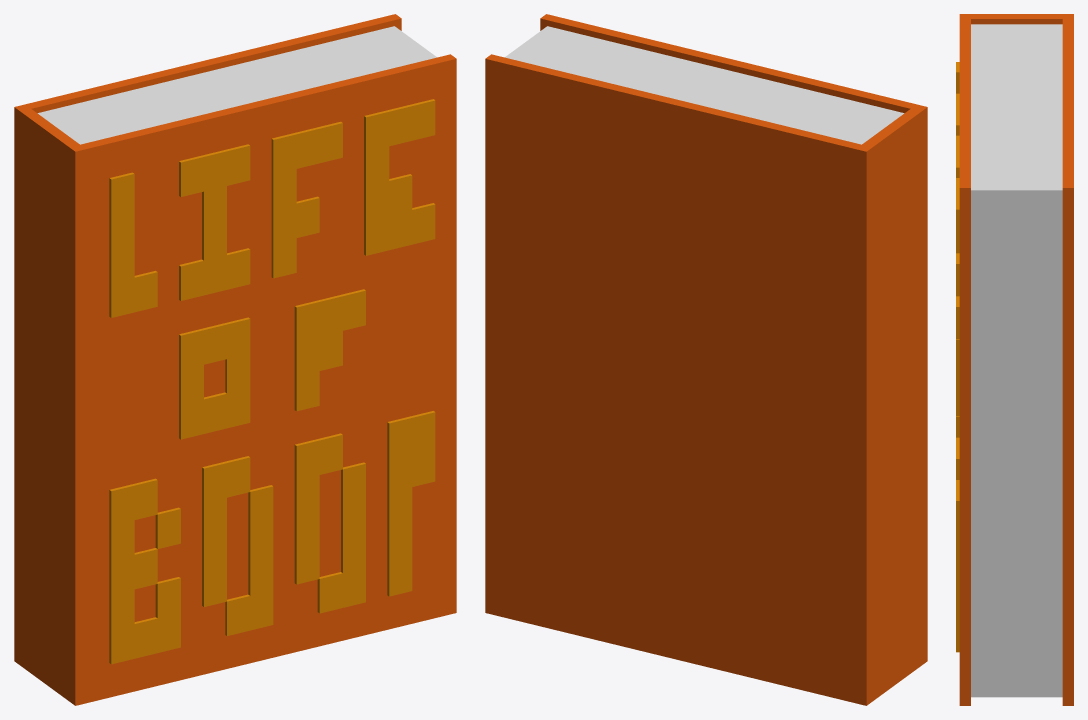
Rendered from Book3.glb.
The picture shows the model from 3 angles, left to right: view 1: azimuth 30°, elevation 25°; view 2: azimuth 150°, elevation 25°; view 3: azimuth 270°, elevation 25°; orthographic projection. The views are drawn at different scales.
Visible parts, largest first — view 1: Model; view 2: Model; view 3: Model.
Part boxes in pixels (x1,y1,x2,y2): Model: [14, 14, 456, 705]; Model: [485, 14, 927, 705]; Model: [956, 14, 1073, 705].
Size of the model in its own units: 1.44 by 2 by 0.4126.
